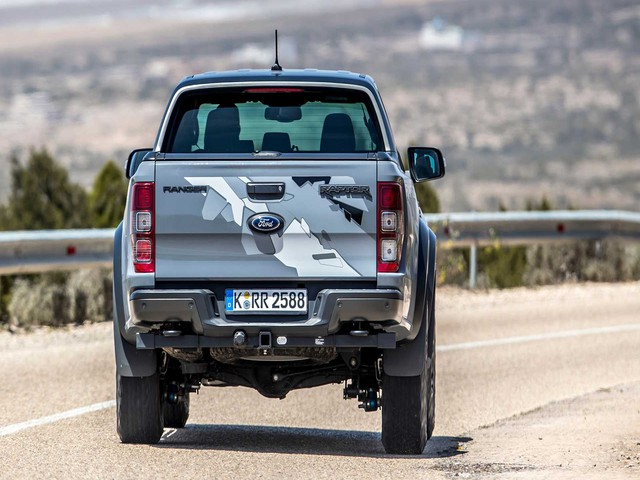Vehicle: (109, 58, 448, 460)
